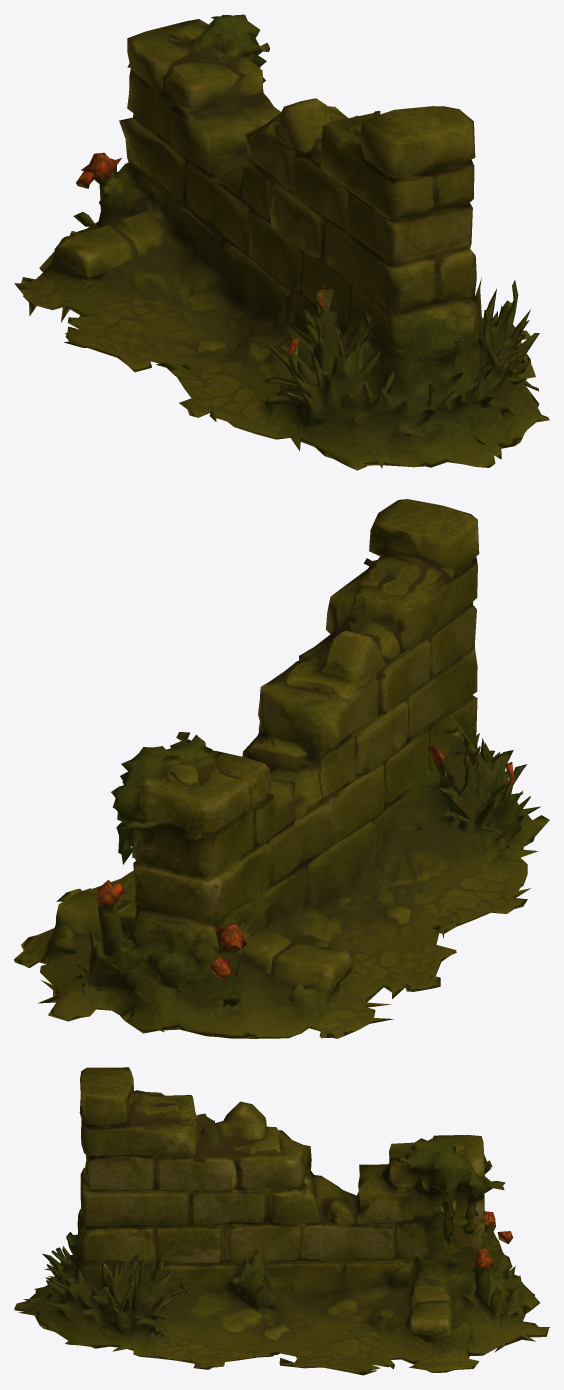
Rendered from stone+wall+ruin+3d+model.fbx.
3 renders of one model, top to bottom at view 1: azimuth 30°, elevation 25°; view 2: azimuth 150°, elevation 25°; view 3: azimuth 270°, elevation 25°, orthographic. The views are drawn at different scales.
Visible parts, largest first — view 1: tripo_node_39805a60; view 2: tripo_node_39805a60; view 3: tripo_node_39805a60.
Boxes of the visible parts, x1=… form: tripo_node_39805a60: x1=14, y1=14, x2=549, y2=470; tripo_node_39805a60: x1=14, y1=499, x2=549, y2=1038; tripo_node_39805a60: x1=14, y1=1067, x2=549, y2=1375.
Size of the model in its own units: 0.5775 by 0.4535 by 0.9636.
1 material, 1 textured.
